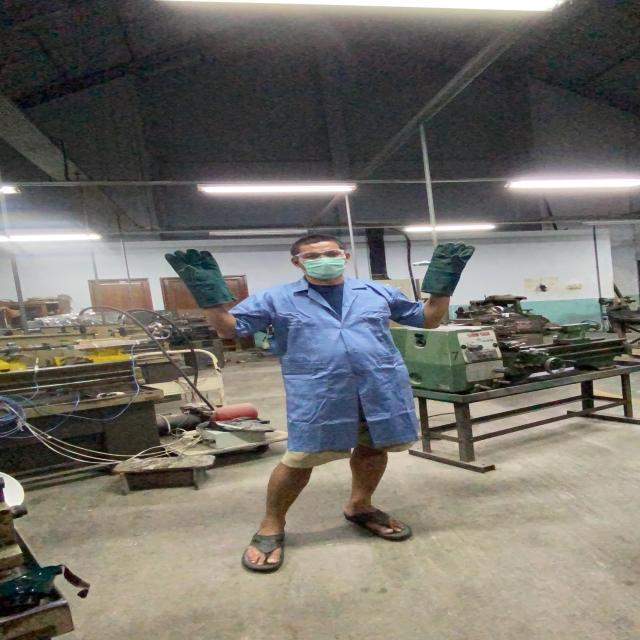glasses: (290, 248, 350, 261)
